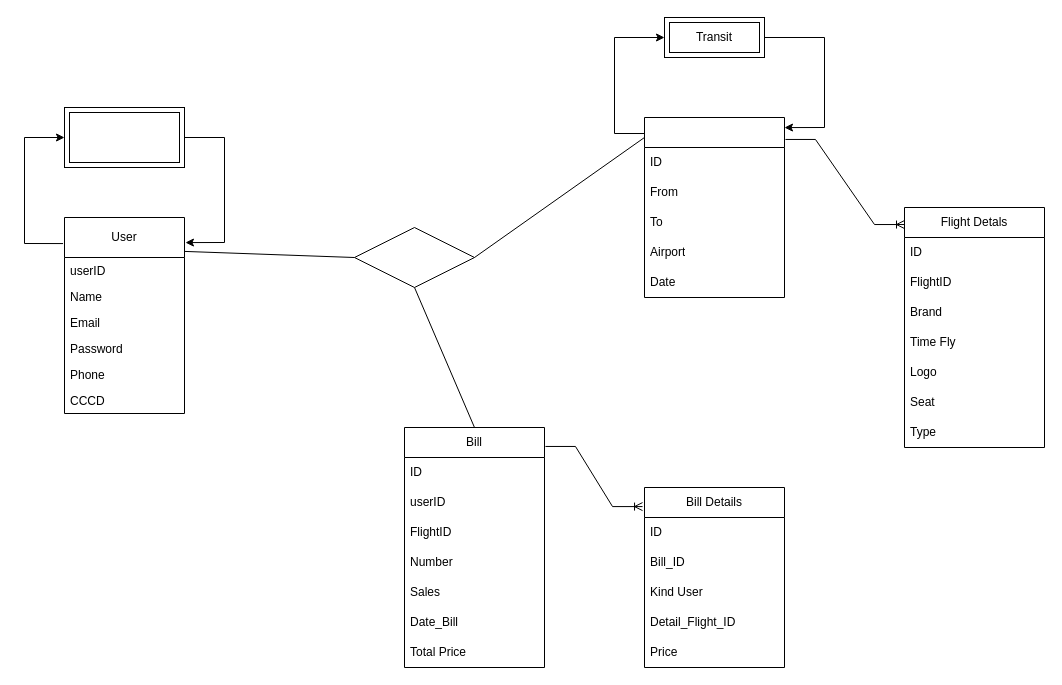
The diagram is 1062 pixels wide and 685 high, and some of its shapes have lost their labels. The shapes that lost their labels are listed below. From the top down, each one's box as (x1, y1, x2, y2) in pixels, then its label:
(64, 106, 184, 168): Admin
(644, 116, 784, 298): Flight
(354, 226, 474, 288): Fly
